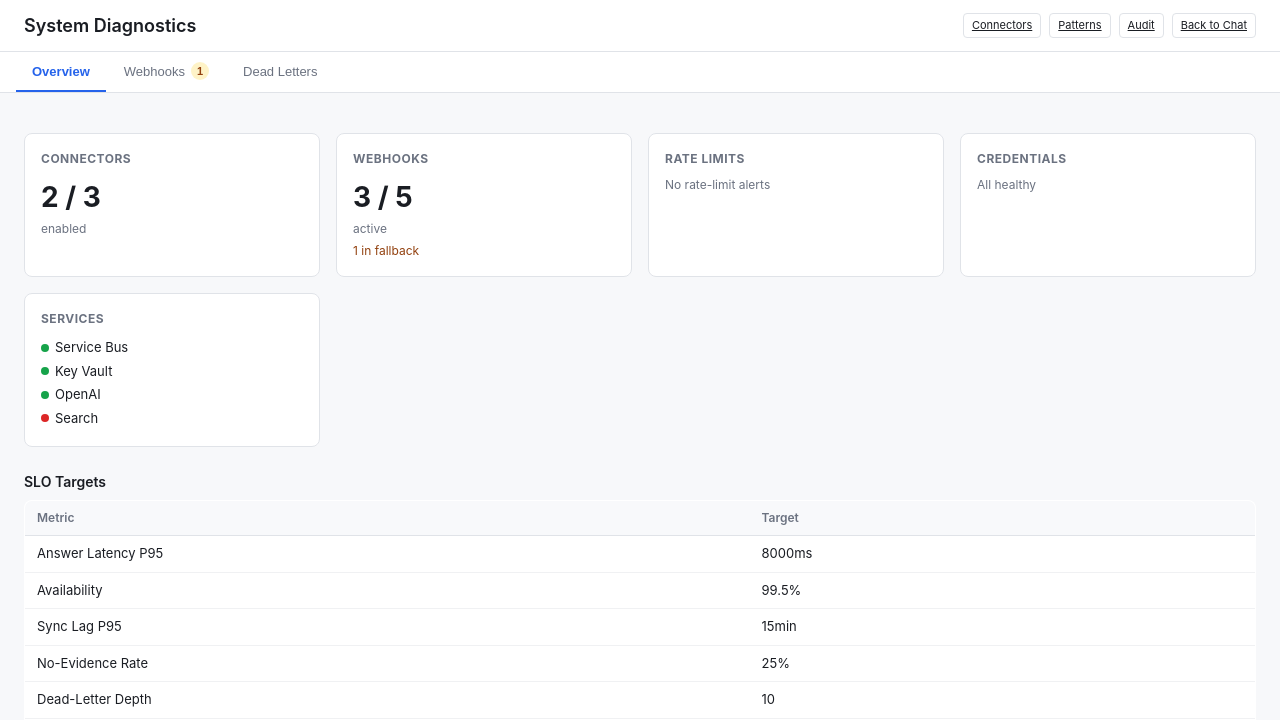
Test case: DiagnosticsPage › shows empty state for dead letters when none exist
The image size is (1280, 720).
Click the button with test id "tab-dead-letters": (280, 72) 227,52 -> 333,92
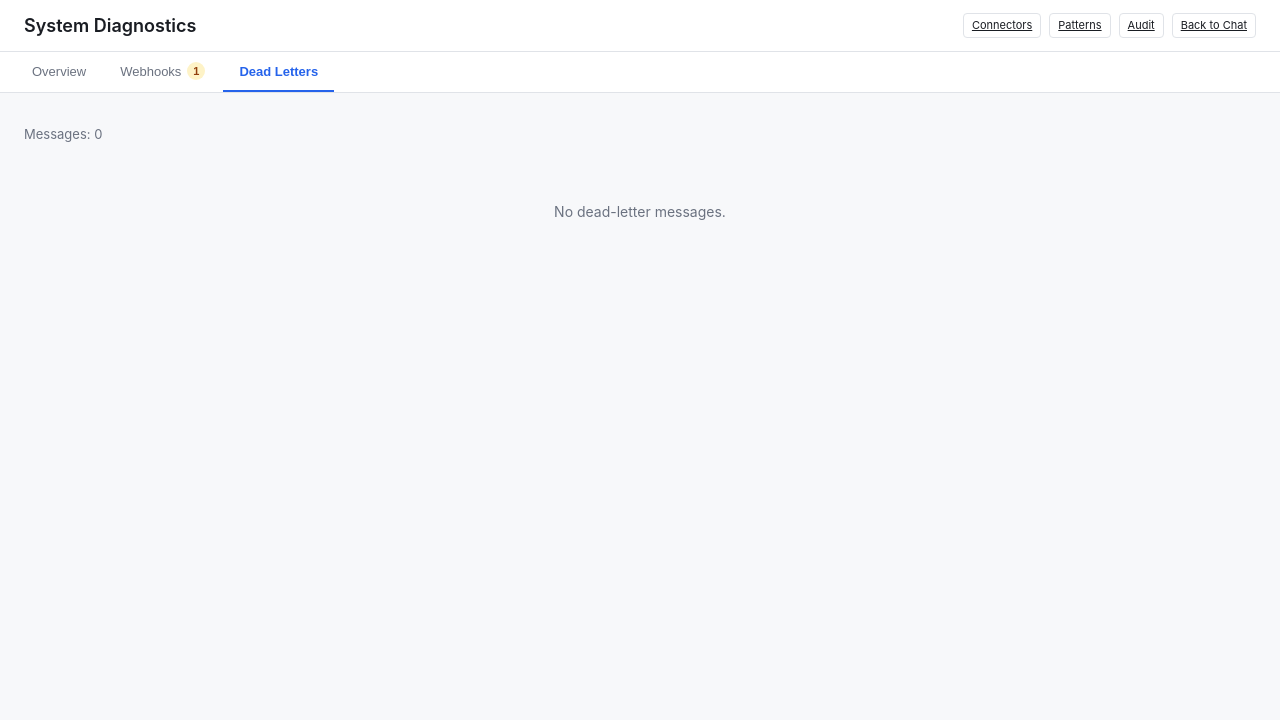
Result: the text "No dead-letter messages." is shown at 554,202 -> 726,220
